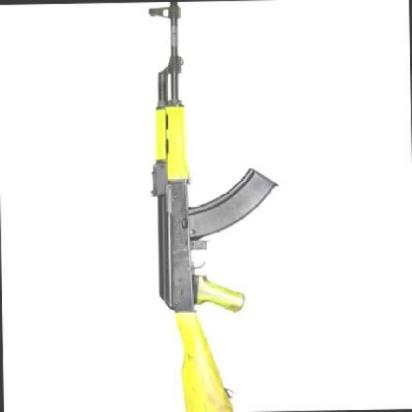Gun: (116, 0, 283, 412)
